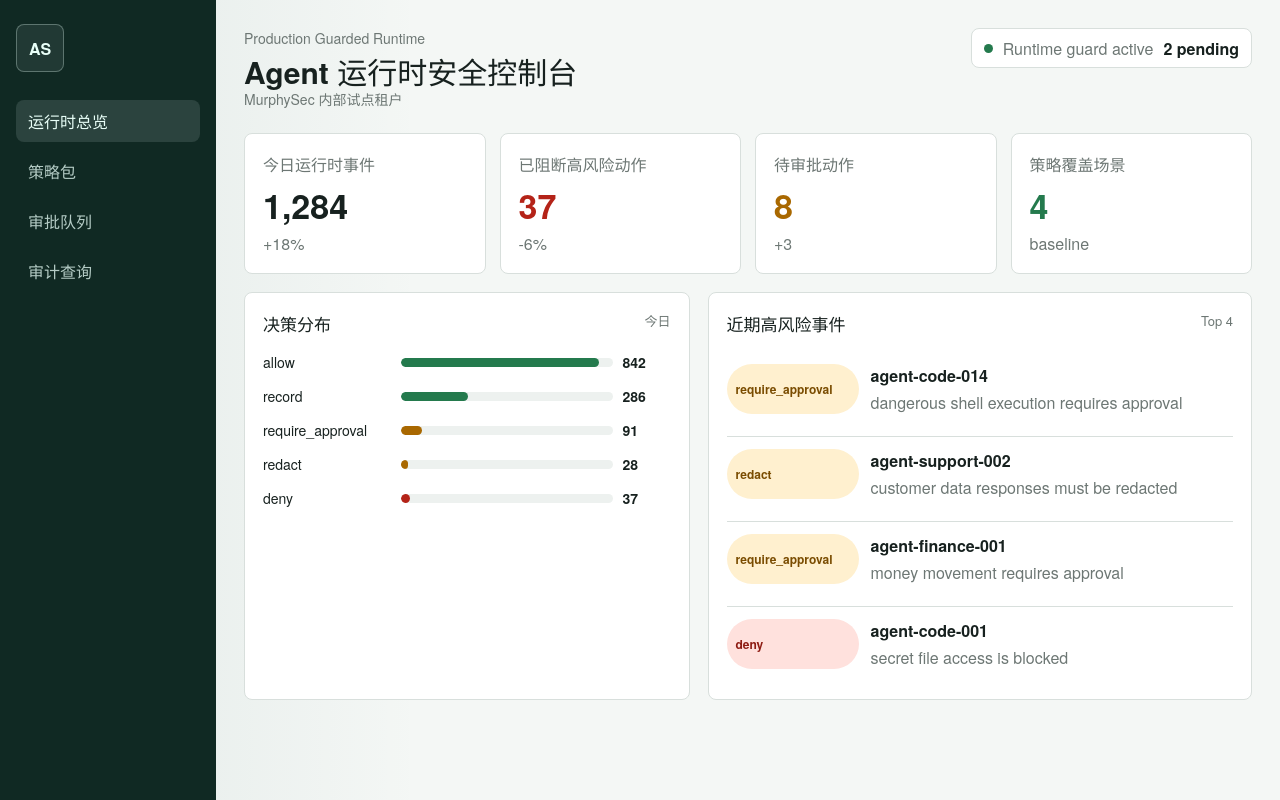
Test: Operator Console › approves a pending approval from the queue
Click the tab "审批队列" at (108, 221), box [16, 200, 200, 242]
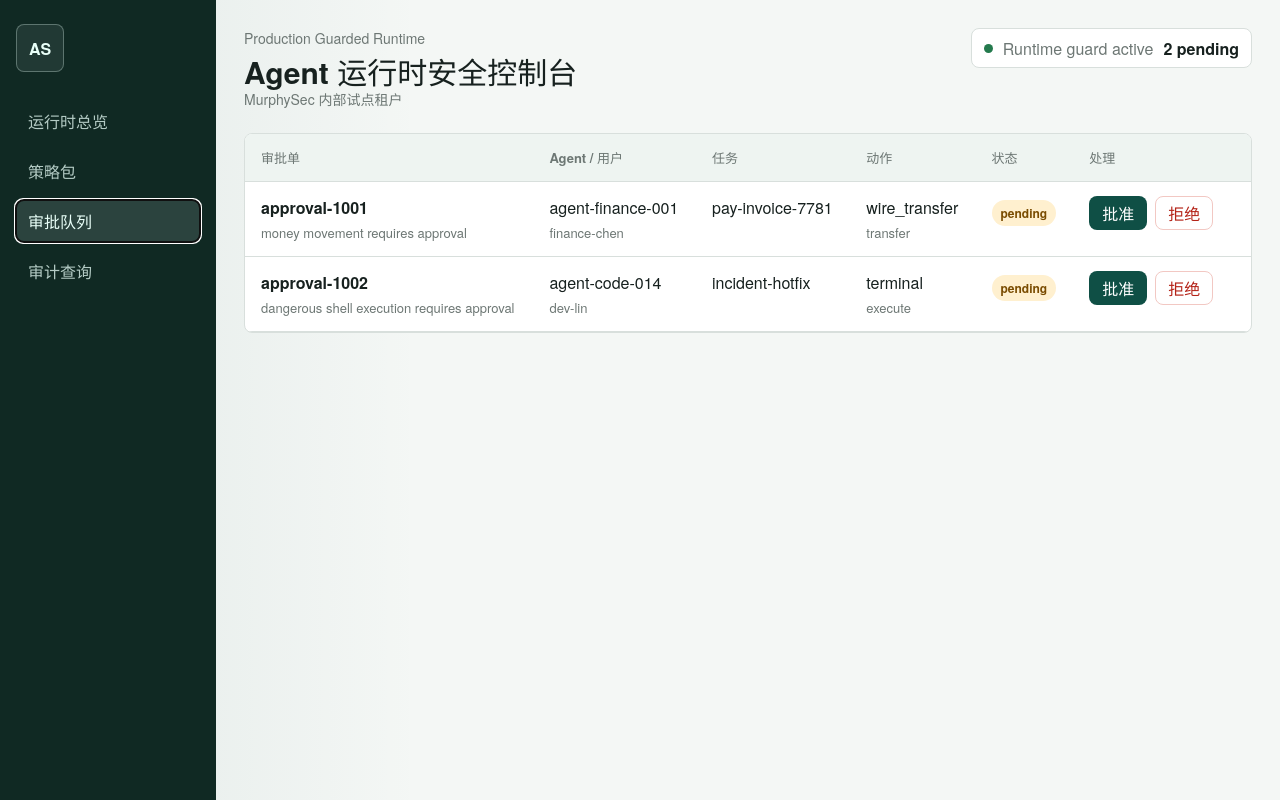
Click the button named "批准 approval-1001" at (1118, 213), box [1089, 196, 1147, 230]
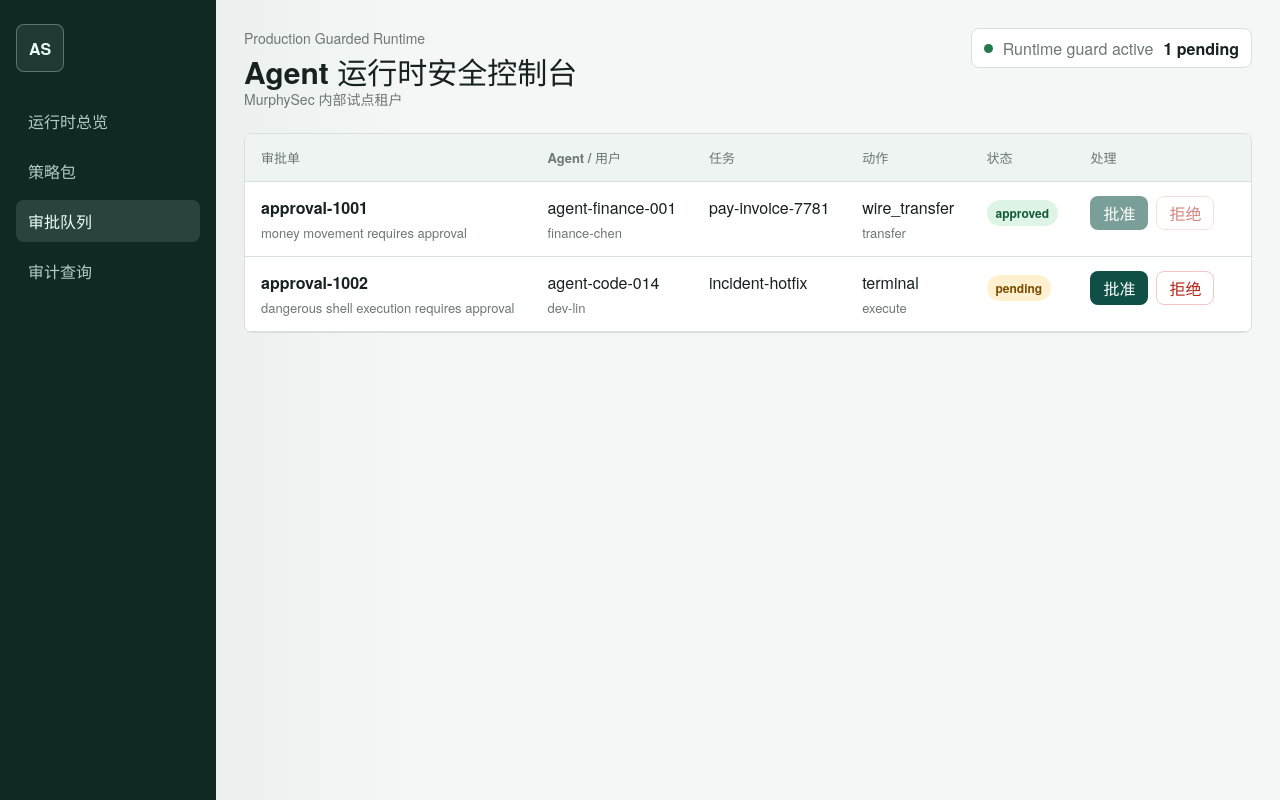
Check: the text "approved" is shown, box [986, 200, 1058, 226]
